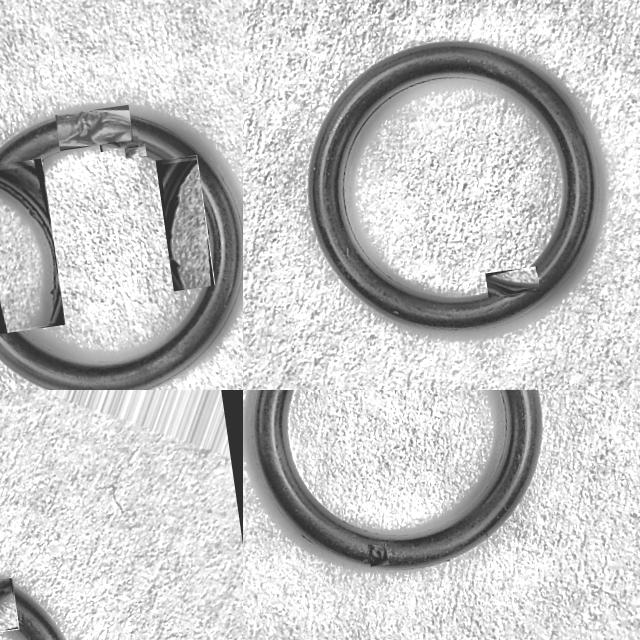切割缺陷: (59, 110, 131, 146), (487, 277, 540, 295), (99, 125, 139, 148), (369, 545, 387, 565)
裂纹: (0, 182, 61, 325), (166, 160, 198, 289), (126, 144, 145, 158)
